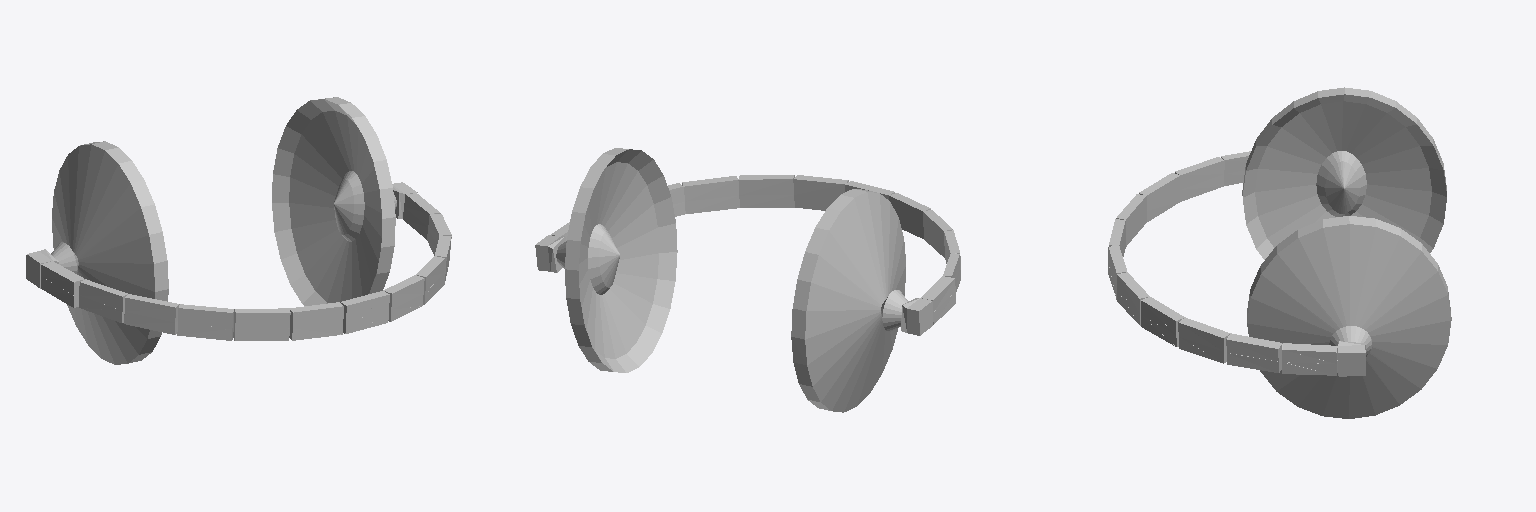
Rendered from model_align.obj.
3 views of the same model, side by side, from view 1: azimuth 30°, elevation 25°; view 2: azimuth 150°, elevation 25°; view 3: azimuth 270°, elevation 25° (orthographic).
Parts seen in each view (by area): view 1: mesh1_mesh1-geometry, mesh11_mesh11-geometry; view 2: mesh1_mesh1-geometry, mesh11_mesh11-geometry; view 3: mesh1_mesh1-geometry, mesh11_mesh11-geometry.
Part boxes in pixels (x1,y1,x2,y2): mesh1_mesh1-geometry: (26, 97, 417, 364); mesh11_mesh11-geometry: (41, 193, 451, 340); mesh1_mesh1-geometry: (535, 148, 932, 412); mesh11_mesh11-geometry: (551, 175, 960, 324); mesh1_mesh1-geometry: (1242, 87, 1451, 418); mesh11_mesh11-geometry: (1108, 151, 1337, 375).
Bounding box in the file's own units: 0.1636 × 0.0907 × 0.1275.